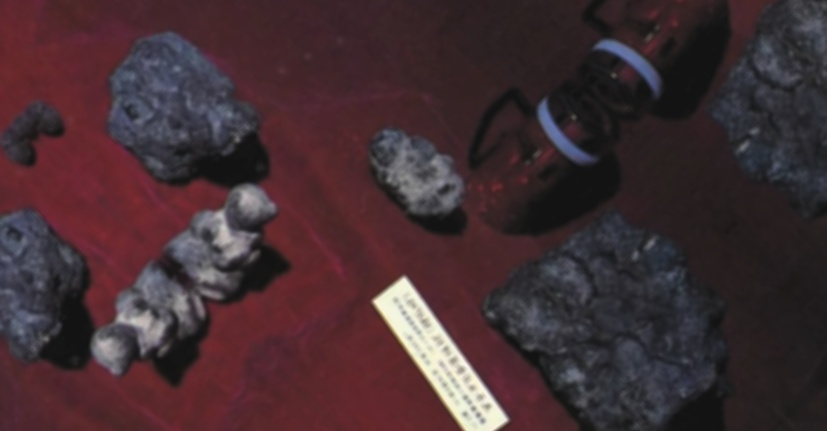halobolite: (459, 171, 762, 431), (96, 35, 255, 184), (1, 201, 94, 362), (360, 133, 475, 208), (1, 100, 71, 150)
